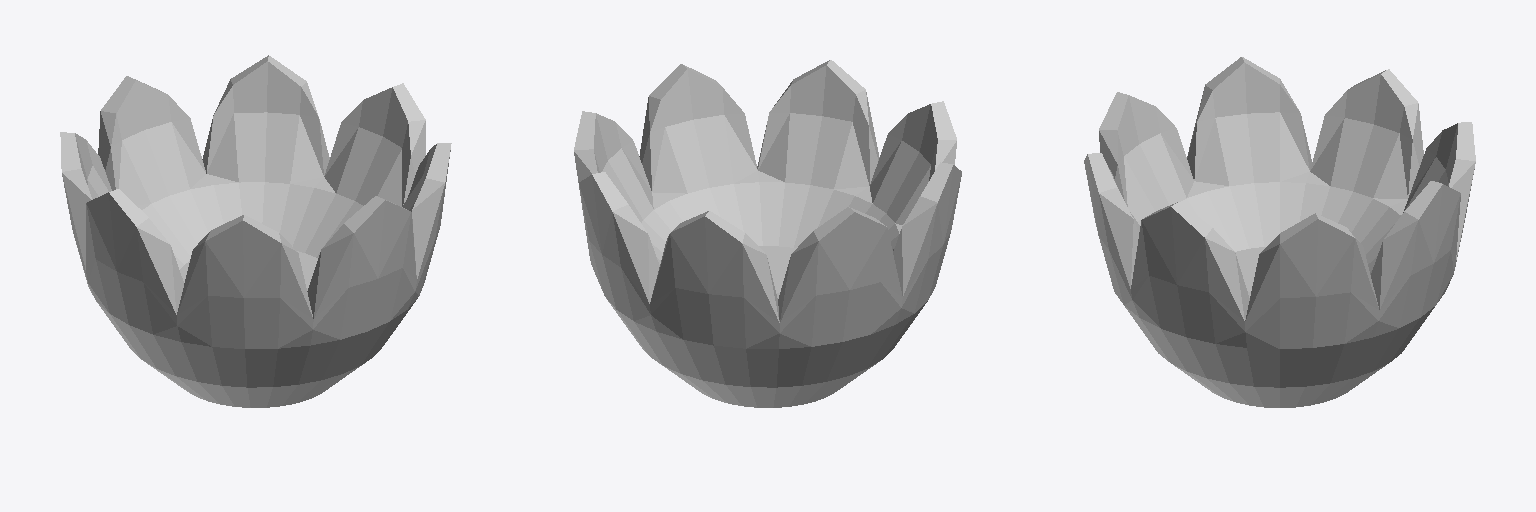
The model's file is wave3.obj.
3 views of the same model, side by side, from view 1: azimuth 30°, elevation 25°; view 2: azimuth 150°, elevation 25°; view 3: azimuth 270°, elevation 25° (orthographic).
Parts seen in each view (by area): view 1: Cylinder; view 2: Cylinder; view 3: Cylinder.
Boxes of the visible parts, x1,y1,x2,y2 form: Cylinder: [60, 55, 451, 407]; Cylinder: [574, 60, 961, 407]; Cylinder: [1084, 57, 1475, 407].
Bounding box in the file's own units: 1.5 × 1 × 1.5.